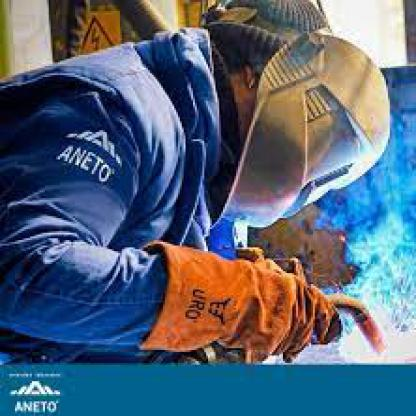with_gloves: (137, 238, 343, 363)
